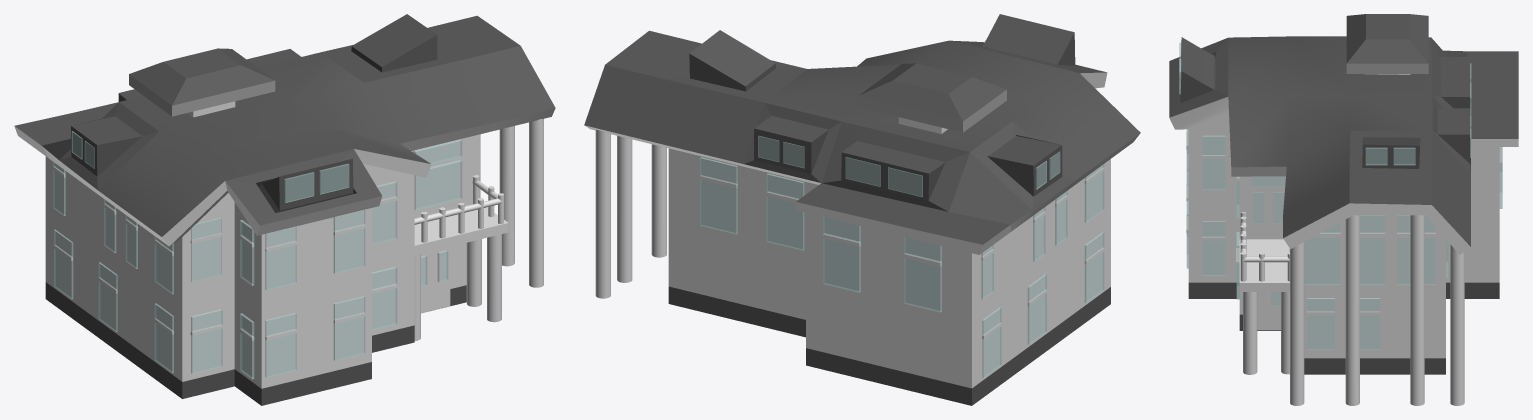
The model's file is white house nextto edith.fbx.
3 renders of one model, left to right at view 1: azimuth 30°, elevation 25°; view 2: azimuth 150°, elevation 25°; view 3: azimuth 270°, elevation 25°, orthographic. The views are drawn at different scales.
Visible parts, largest first — view 1: pCube1, pCube48, pCylinder14, group3_pCube3, pCylinder16, pCube38, pCube5, pCube27, pCube3, group3_pCube2, pCube4, pCube2 (+18 smaller); view 2: pCube1, pCube48, pCylinder15, group3_pCube16, group3_pCube15, group3_pCube14, group3_pCube13, pCylinder17, pCylinder16, group3_pCube7, group3_pCube8, group3_pCube12 (+6 smaller); view 3: pCube1, pCube48, pCylinder17, pCylinder16, pCylinder14, pCylinder15, pCube37, pCube61, pCube62, pCube63, pCube64, pCube18 (+10 smaller).
Boxes of the visible parts, left/top/right/bottom form: pCube1: left=14, top=14, right=555, bottom=405; pCube48: left=129, top=48, right=275, bottom=116; pCylinder14: left=529, top=119, right=543, bottom=287; group3_pCube3: left=190, top=309, right=222, bottom=373; pCylinder16: left=499, top=126, right=514, bottom=266; pCube38: left=414, top=160, right=462, bottom=210; pCube5: left=333, top=296, right=365, bottom=360; pCube27: left=421, top=247, right=450, bottom=313; pCube3: left=333, top=209, right=365, bottom=273; group3_pCube2: left=190, top=218, right=221, bottom=282; pCube4: left=265, top=313, right=296, bottom=377; pCube2: left=265, top=226, right=296, bottom=290; pCube1: left=584, top=14, right=1140, bottom=405; pCube48: left=858, top=63, right=1006, bottom=132; pCylinder15: left=595, top=130, right=610, bottom=298; group3_pCube16: left=700, top=157, right=737, bottom=234; group3_pCube15: left=766, top=173, right=804, bottom=250; group3_pCube14: left=904, top=236, right=941, bottom=312; group3_pCube13: left=823, top=217, right=860, bottom=292; pCylinder17: left=617, top=136, right=632, bottom=282; pCylinder16: left=651, top=144, right=666, bottom=257; group3_pCube7: left=1084, top=232, right=1104, bottom=303; group3_pCube8: left=982, top=307, right=1001, bottom=378; group3_pCube12: left=1027, top=274, right=1046, bottom=344; pCube1: left=1169, top=36, right=1518, bottom=374; pCube48: left=1346, top=14, right=1428, bottom=73; pCylinder17: left=1410, top=215, right=1424, bottom=405; pCylinder16: left=1345, top=215, right=1359, bottom=405; pCylinder14: left=1290, top=242, right=1304, bottom=405; pCylinder15: left=1450, top=244, right=1464, bottom=405; pCube37: left=1248, top=176, right=1285, bottom=235; pCube61: left=1304, top=223, right=1340, bottom=284; pCube62: left=1360, top=215, right=1385, bottom=284; pCube63: left=1397, top=215, right=1435, bottom=284; pCube64: left=1307, top=298, right=1334, bottom=349; pCube18: left=1202, top=135, right=1225, bottom=190.
Bounding box in the file's own units: 2040 × 1186 × 1544.
